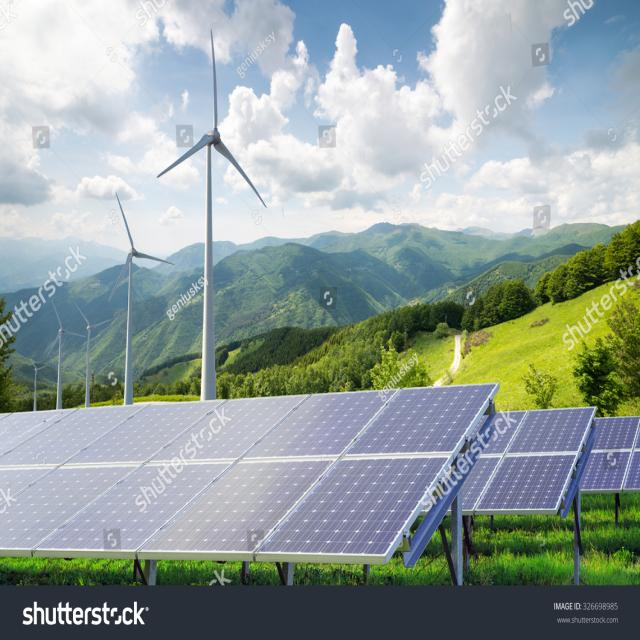clean-solar-panel: (1, 383, 499, 564), (474, 408, 595, 514)
